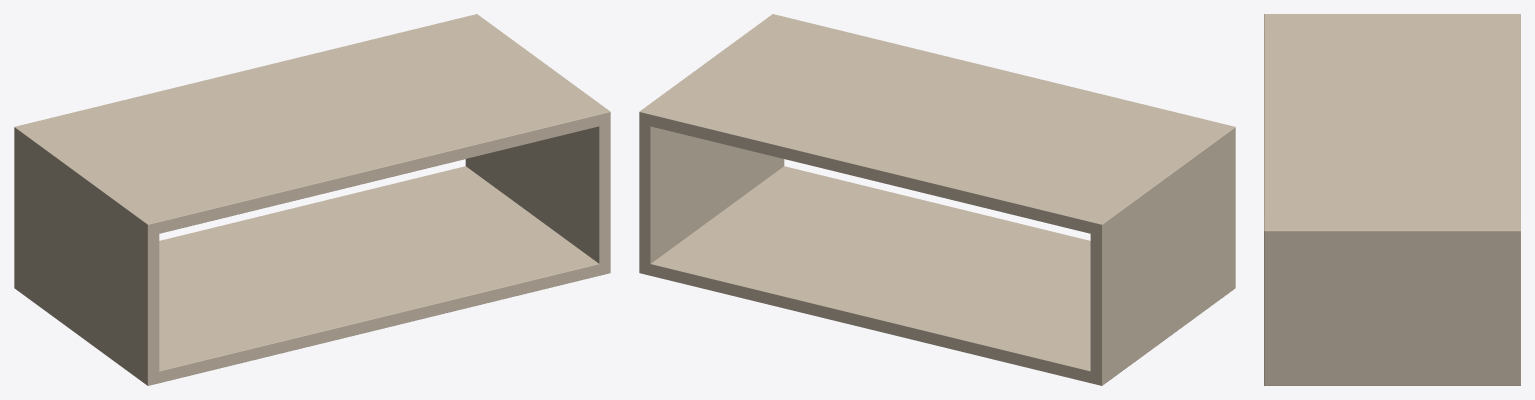
The model's file is MOD-2X07-A-O-AR.glb.
The picture shows the model from 3 angles, left to right: view 1: azimuth 30°, elevation 25°; view 2: azimuth 150°, elevation 25°; view 3: azimuth 270°, elevation 25°; orthographic projection. The views are drawn at different scales.
Size of the model in its own units: 720 by 240 by 360.
